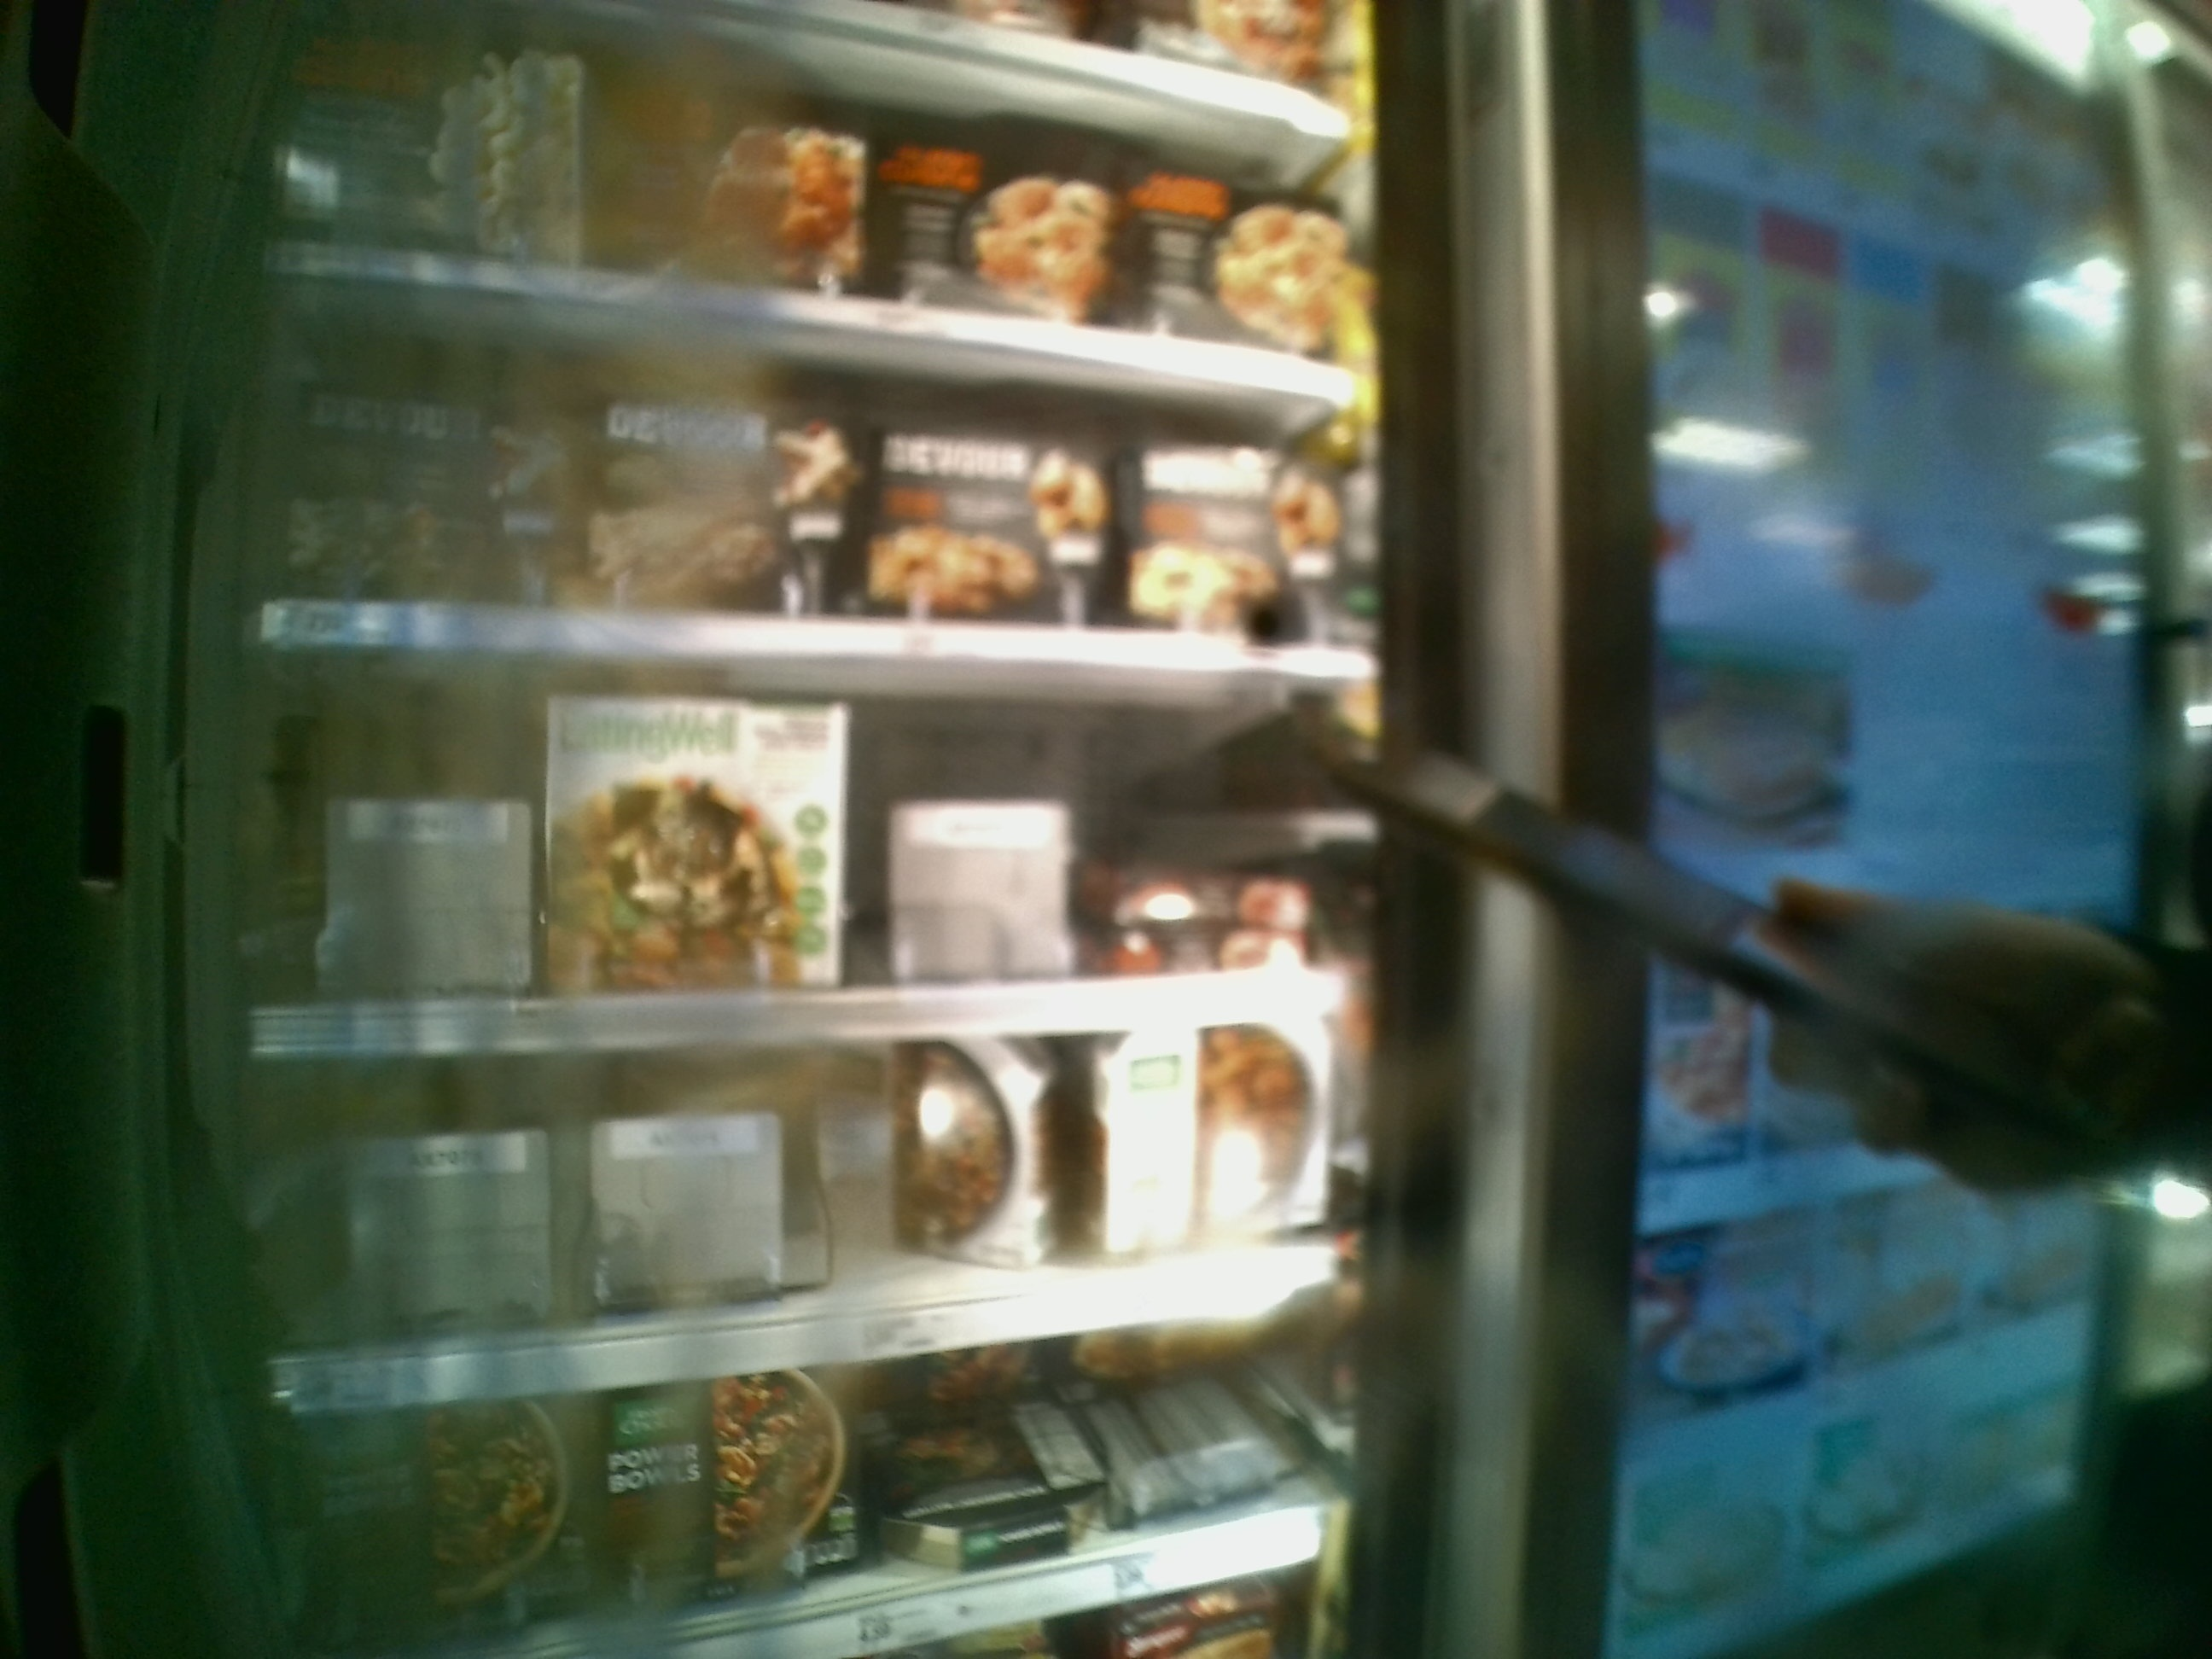shelf: (244, 638, 1378, 1060), (270, 270, 1379, 678)
